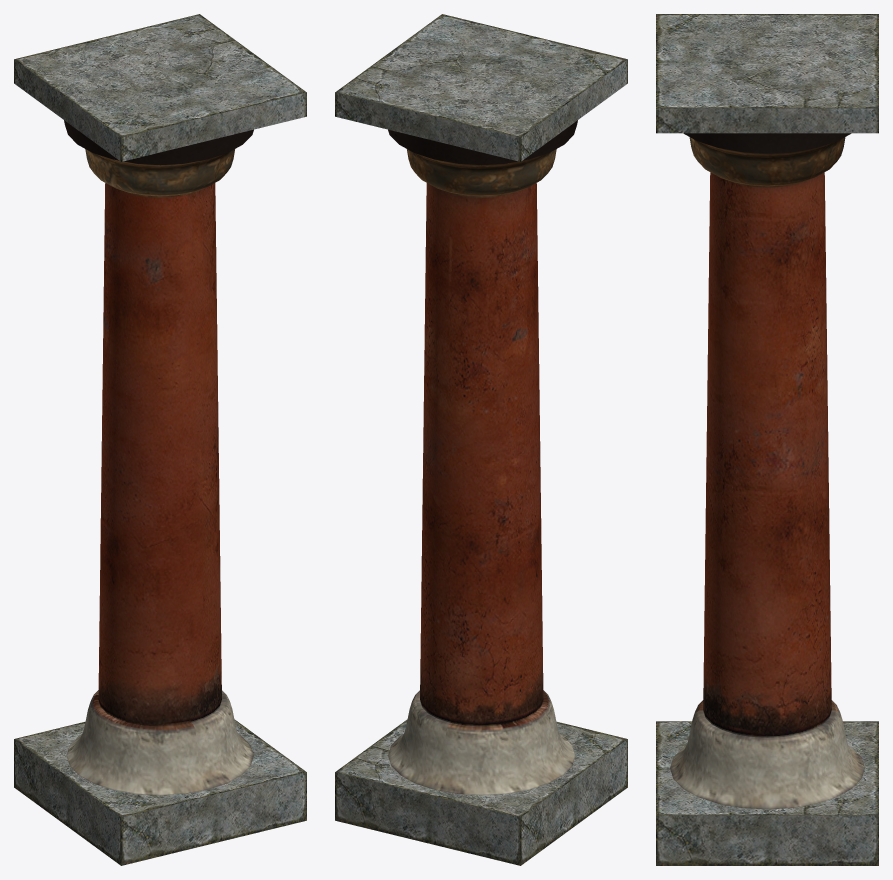
Rendered from Column1.obj.
3 views of the same model, side by side, from view 1: azimuth 30°, elevation 25°; view 2: azimuth 150°, elevation 25°; view 3: azimuth 270°, elevation 25° (orthographic). The views are drawn at different scales.
Parts seen in each view (by area): view 1: Line002, Box002, Box001; view 2: Line002, Box002, Box001; view 3: Line002, Box002, Box001.
Boxes of the visible parts, x1,y1,x2,y2 form: Line002: [64, 120, 253, 795]; Box002: [14, 14, 306, 161]; Box001: [14, 719, 306, 865]; Line002: [388, 120, 577, 795]; Box002: [335, 14, 627, 161]; Box001: [335, 719, 627, 865]; Line002: [670, 133, 864, 809]; Box002: [656, 14, 878, 133]; Box001: [656, 721, 878, 865].
Bounding box in the file's own units: 0.8 × 3 × 0.8.
2 materials, 2 textured.
